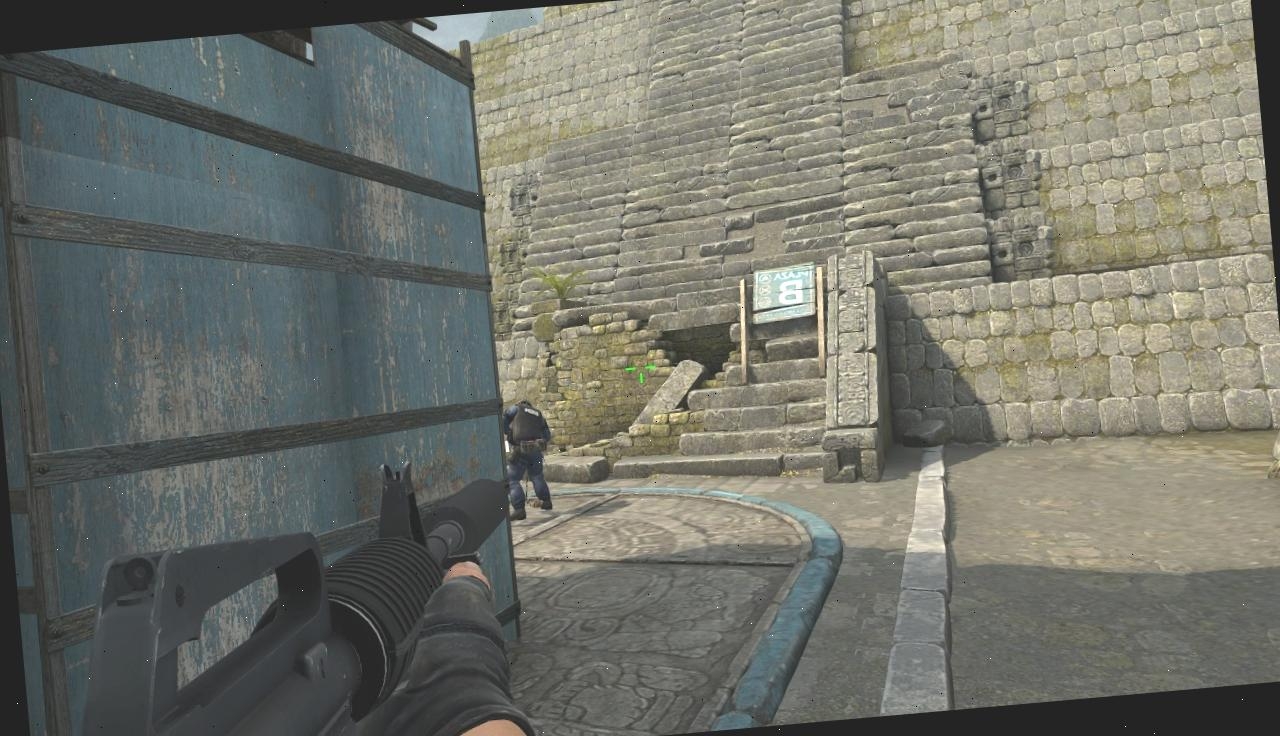ct: (502, 394, 556, 520)
cthead: (511, 400, 532, 420)
rifle: (40, 449, 525, 736)
